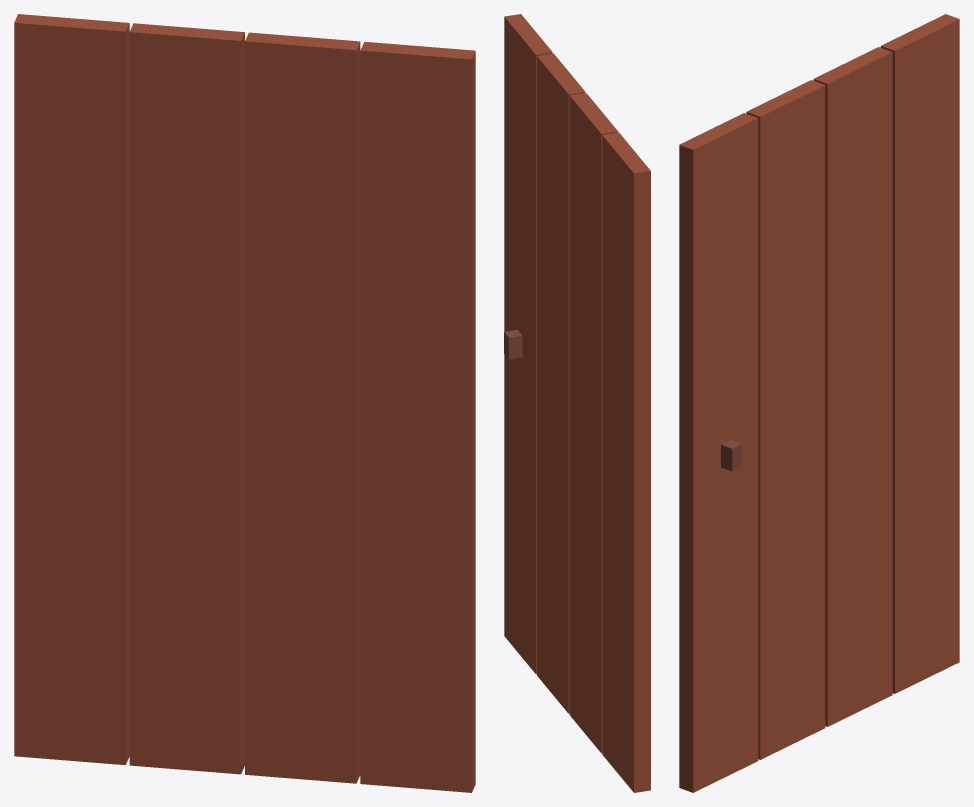
Rendered from Door.glb.
3 renders of one model, left to right at view 1: azimuth 30°, elevation 25°; view 2: azimuth 150°, elevation 25°; view 3: azimuth 270°, elevation 25°, orthographic. The views are drawn at different scales.
Visible parts, largest first — view 1: DoorOpen; view 2: DoorOpen; view 3: DoorOpen.
Part boxes in pixels (bbox=[...]): DoorOpen: bbox=[14, 14, 475, 792]; DoorOpen: bbox=[504, 14, 650, 792]; DoorOpen: bbox=[679, 14, 959, 792].
Size of the model in its own units: 0.9537 by 2.1 by 0.8322.
Materials: 2 (1 with a texture image).
